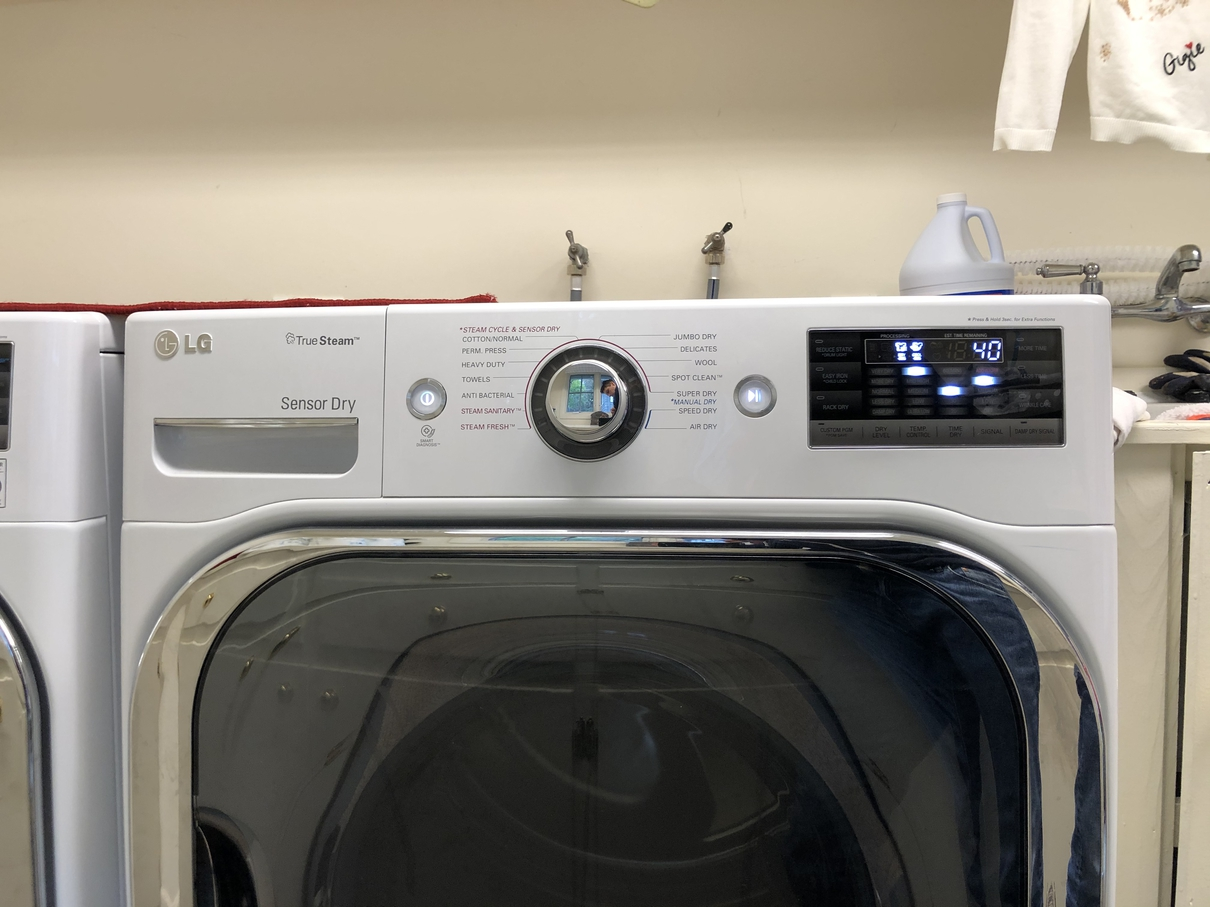status: (859, 329, 1005, 364)
